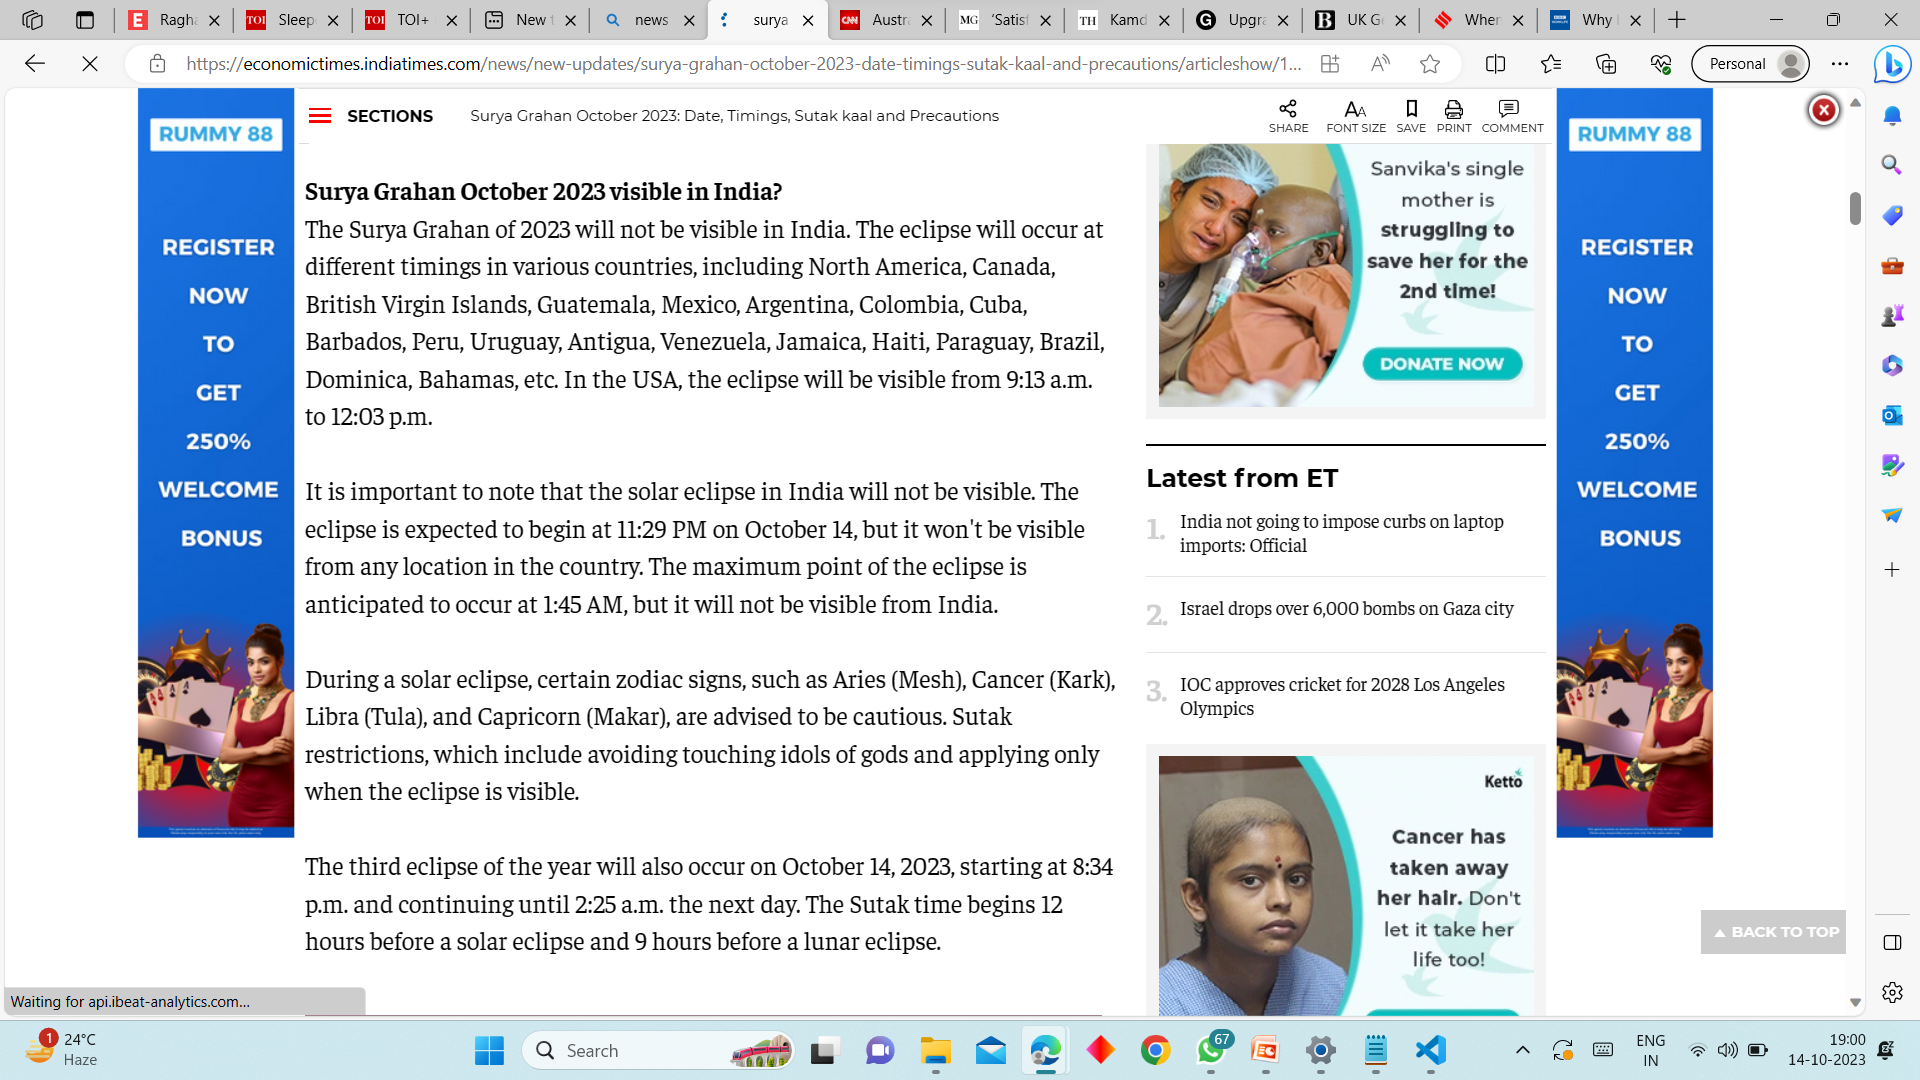Image: (1545, 83, 1716, 839), (1142, 136, 1543, 418), (138, 92, 284, 819), (1158, 753, 1524, 984)
Paragraph: (299, 215, 1122, 431), (299, 655, 1142, 819), (286, 467, 1098, 621), (299, 839, 1125, 981), (456, 92, 1018, 136), (1142, 512, 1520, 570), (1142, 588, 1524, 642), (302, 170, 796, 206), (1145, 678, 1518, 717), (1141, 454, 1364, 498), (334, 96, 444, 136)
